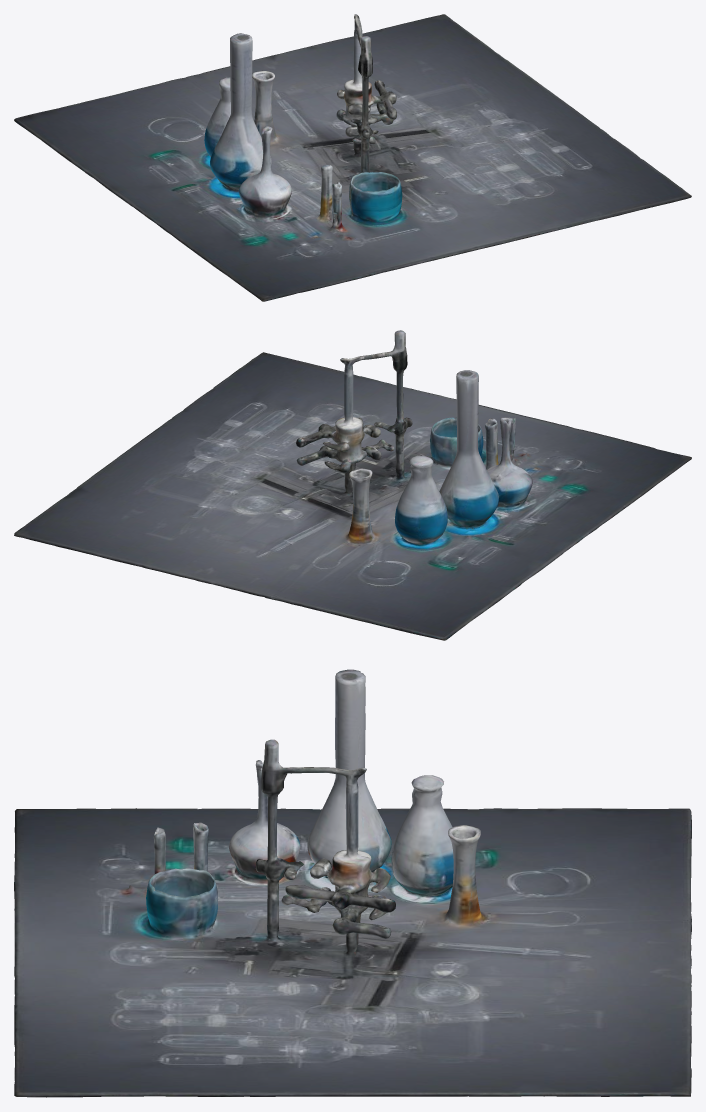
File: laboratory equipment.gltf
The picture shows the model from 3 angles, top to bottom: view 1: azimuth 30°, elevation 25°; view 2: azimuth 150°, elevation 25°; view 3: azimuth 270°, elevation 25°; orthographic projection. The views are drawn at different scales.
Visible parts, largest first — view 1: Mesh1; view 2: Mesh1; view 3: Mesh1.
Boxes of the visible parts, bbox=[...] form: Mesh1: bbox=[14, 14, 691, 301]; Mesh1: bbox=[14, 330, 691, 640]; Mesh1: bbox=[14, 669, 691, 1097].
Bounding box in the file's own units: 2 × 0.6686 × 2.
Materials: 1 (1 with a texture image).
